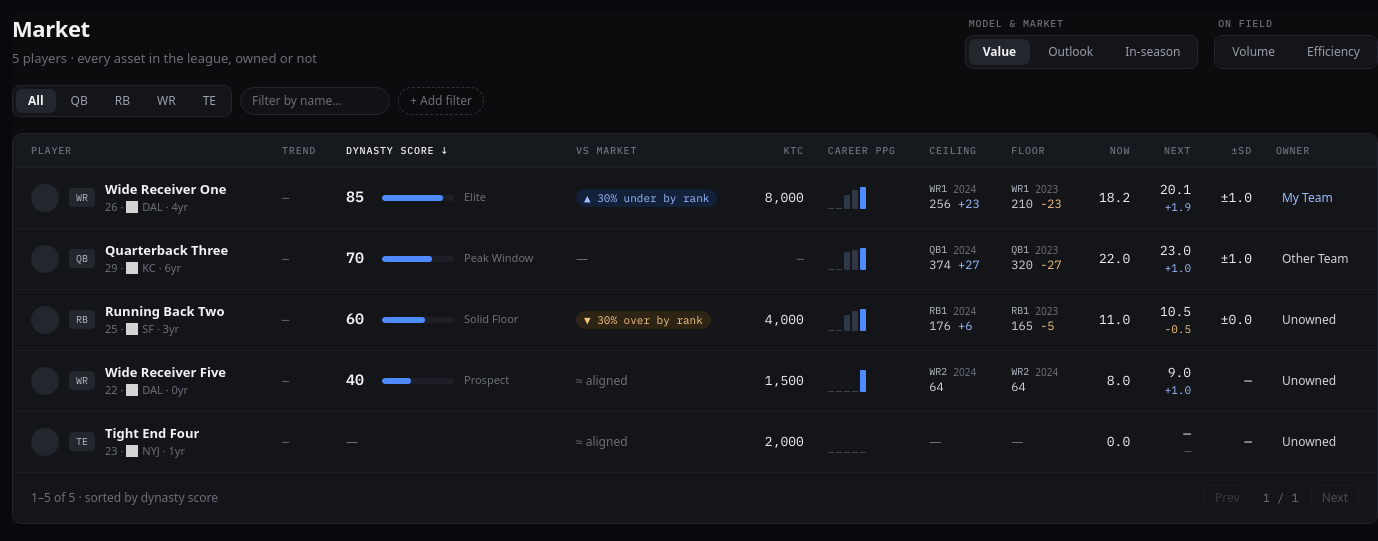
Test: Market › Ceiling/Floor + KTC (Slice vii follow-up) › clicking the Ceiling header sorts ascending by default (rank 1 = best) and sinks null-ceiling rows last
Click the column heading "Ceiling": [958, 150] box top-left (917, 134), bottom-right (999, 167)
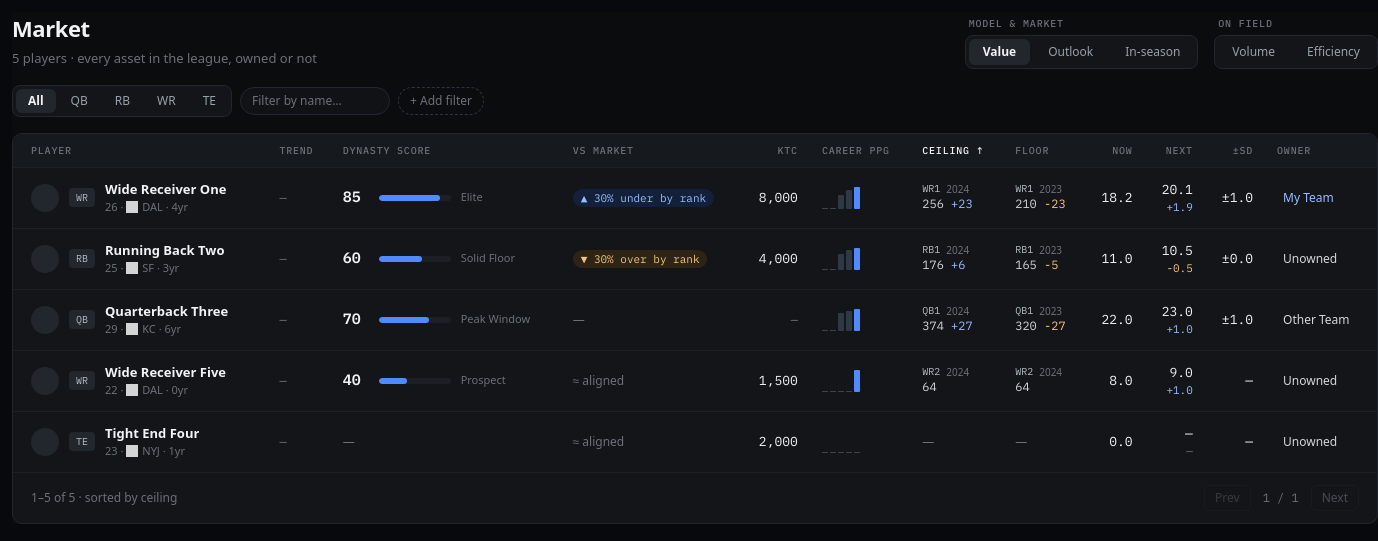
Expected: the text "Tight End Four" is shown, top-left (105, 424), bottom-right (199, 443)
Result: the column heading "Ceiling ↑" is shown at top-left (910, 134), bottom-right (1003, 167)
